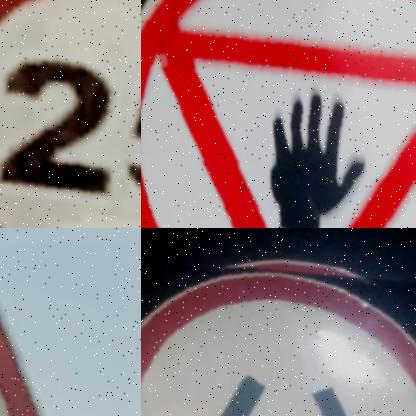Road Divides: (141, 268, 416, 416)
Speed Limit -25 kmph-: (0, 0, 141, 228)
Stop: (141, 0, 416, 228)
